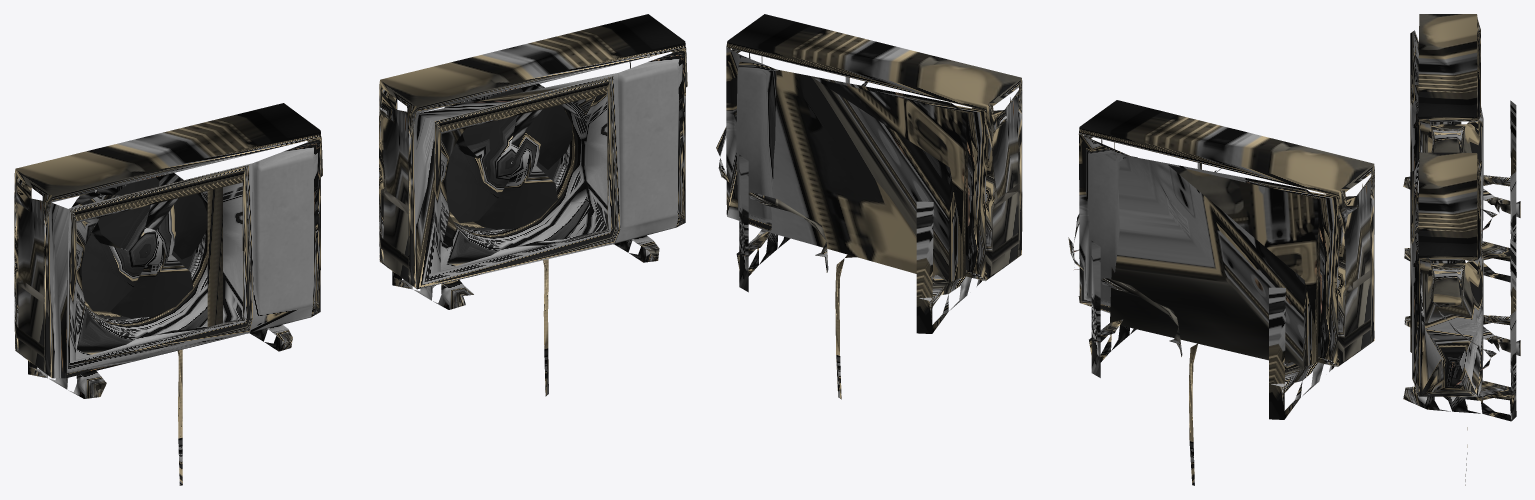
Rendered from exterior_aircon_unit.glb.
3 renders of one model, left to right at view 1: azimuth 30°, elevation 25°; view 2: azimuth 150°, elevation 25°; view 3: azimuth 270°, elevation 25°, orthographic. The views are drawn at different scales.
Parts seen in each view (by area): view 1: exterior_aircon_unit; view 2: exterior_aircon_unit; view 3: exterior_aircon_unit.
Part boxes in pixels (box(x1,y1,x2,y2)): exterior_aircon_unit: box(14, 14, 687, 485); exterior_aircon_unit: box(716, 14, 1374, 485); exterior_aircon_unit: box(1403, 14, 1520, 485).
Bounding box in the file's own units: 1.78 × 0.9189 × 0.3576.
Materials: 1 (1 with a texture image).
